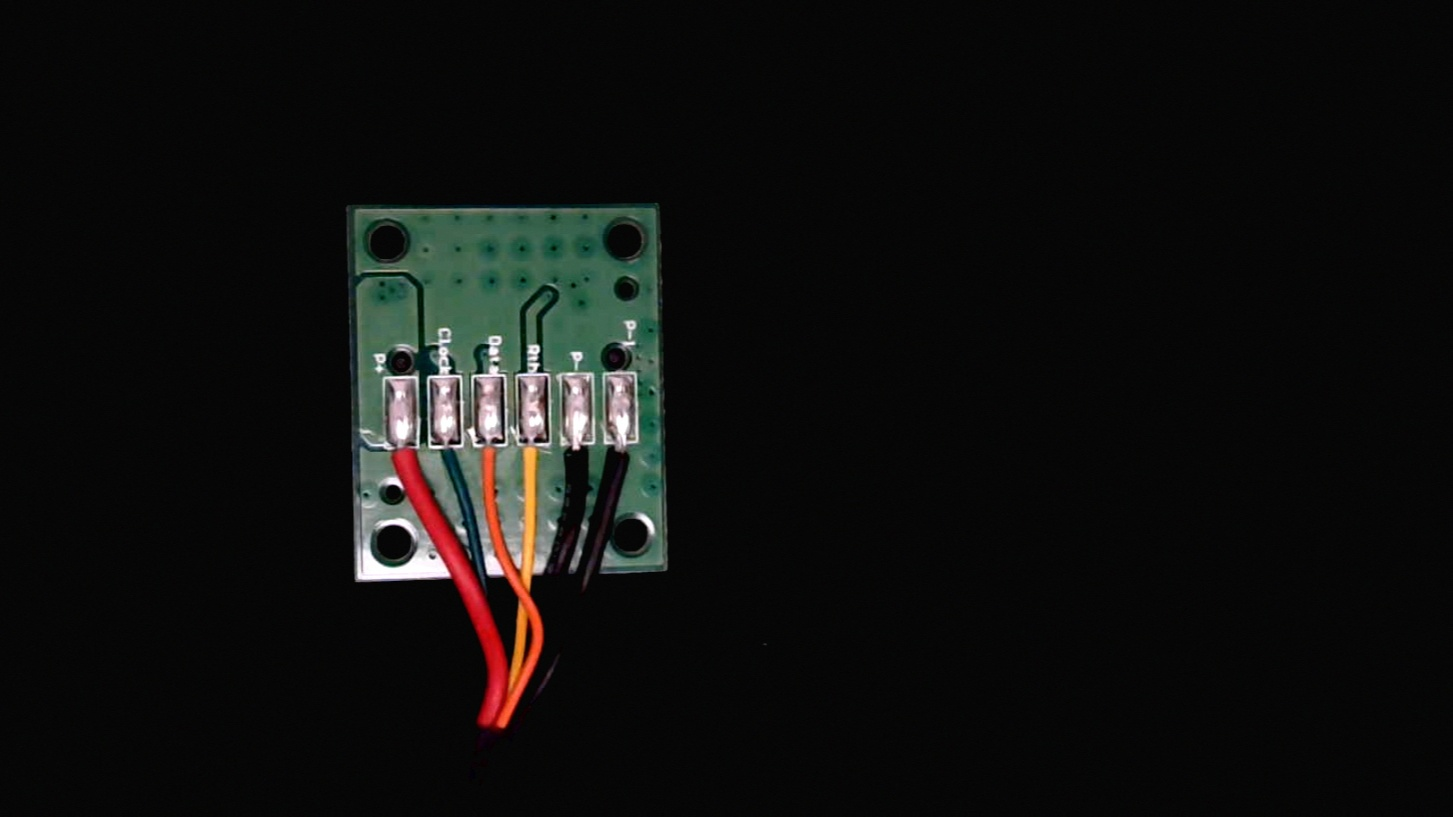Black: (560, 426, 599, 510)
Black1: (607, 429, 646, 506)
Green: (431, 427, 468, 492)
Orange: (475, 428, 512, 501)
Red: (387, 424, 427, 504)
Yellow: (515, 428, 554, 514)
